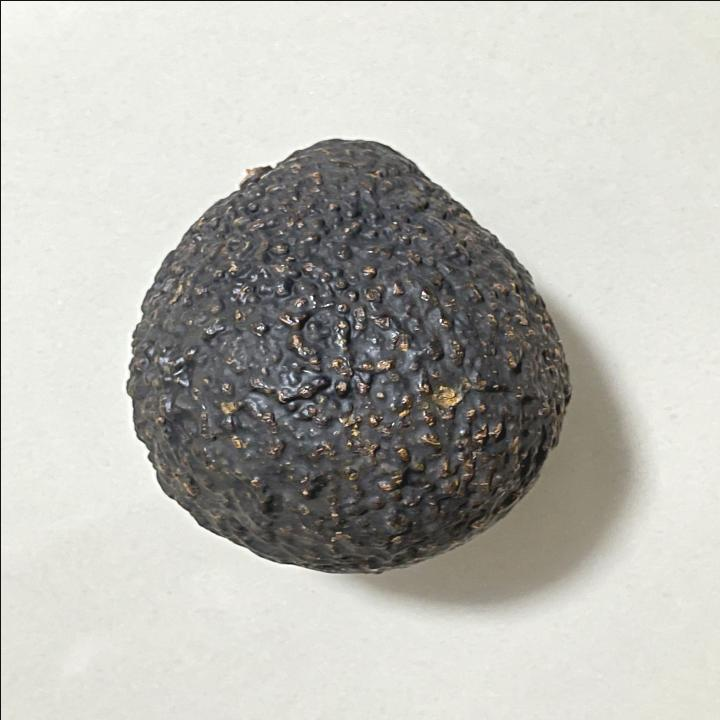Level2: (115, 128, 582, 579)
